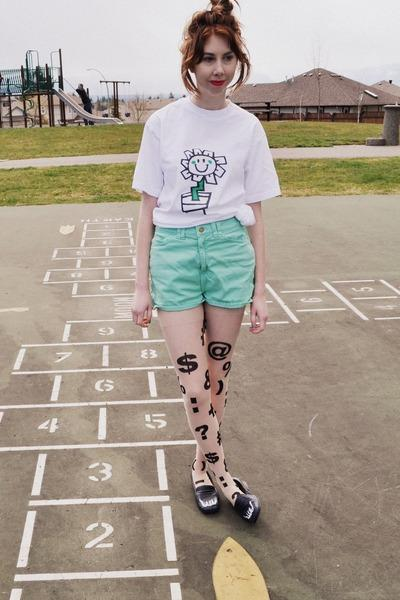shirt: (130, 99, 280, 228)
shoe: (189, 482, 260, 528)
shorts: (146, 216, 254, 311)
